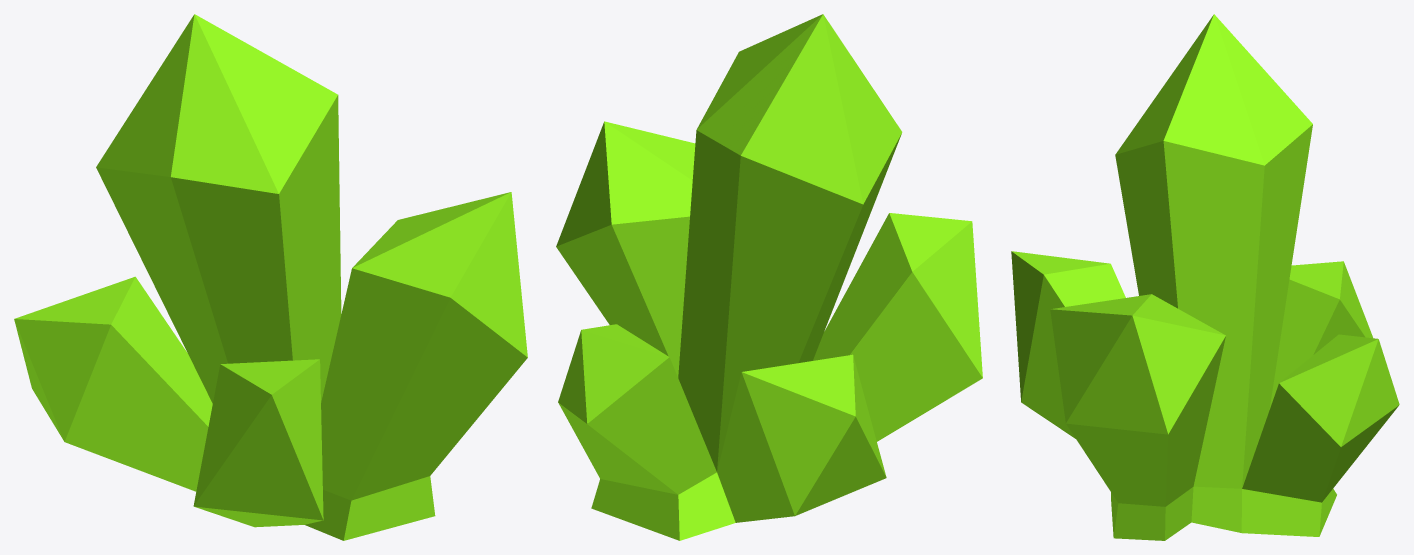
File: Crystal-C04.fbx
3 views of the same model, side by side, from view 1: azimuth 30°, elevation 25°; view 2: azimuth 150°, elevation 25°; view 3: azimuth 270°, elevation 25° (orthographic). The views are drawn at different scales.
Visible parts, largest first — view 1: Crystal-C04; view 2: Crystal-C04; view 3: Crystal-C04.
Boxes of the visible parts, x1,y1,x2,y2 form: Crystal-C04: [14, 14, 527, 540]; Crystal-C04: [556, 14, 982, 540]; Crystal-C04: [1011, 14, 1399, 540].
Size of the model in its own units: 99.28 by 119 by 93.14.
